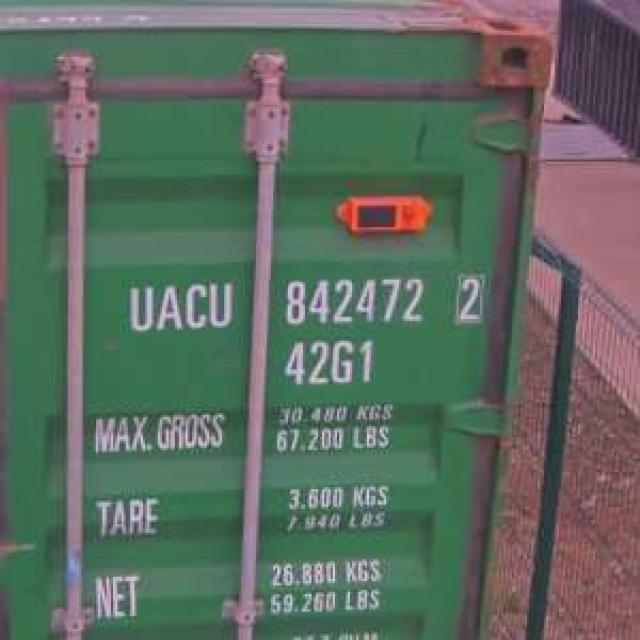dv: (450, 266, 487, 328)
owner: (121, 275, 236, 339)
serial: (277, 268, 429, 329)
size: (277, 334, 378, 391)
